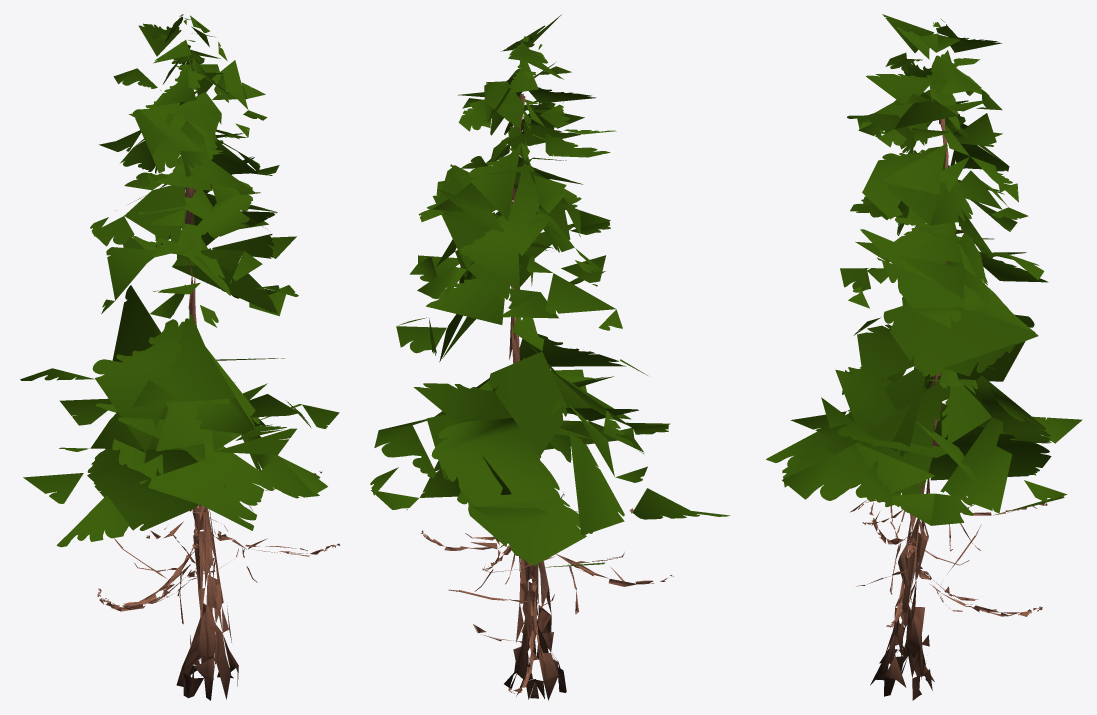
File: Pine_4_lod1.glb
3 renders of one model, left to right at view 1: azimuth 30°, elevation 25°; view 2: azimuth 150°, elevation 25°; view 3: azimuth 270°, elevation 25°, orthographic.
Parts seen in each view (by area): view 1: Pine_4; view 2: Pine_4; view 3: Pine_4.
Boxes of the visible parts, <box> form: Pine_4: <box>20,14,340,700</box>; Pine_4: <box>370,14,729,700</box>; Pine_4: <box>766,14,1082,700</box>.
Size of the model in its own units: 5.18 by 10.27 by 4.43.
2 materials, 2 textured.
